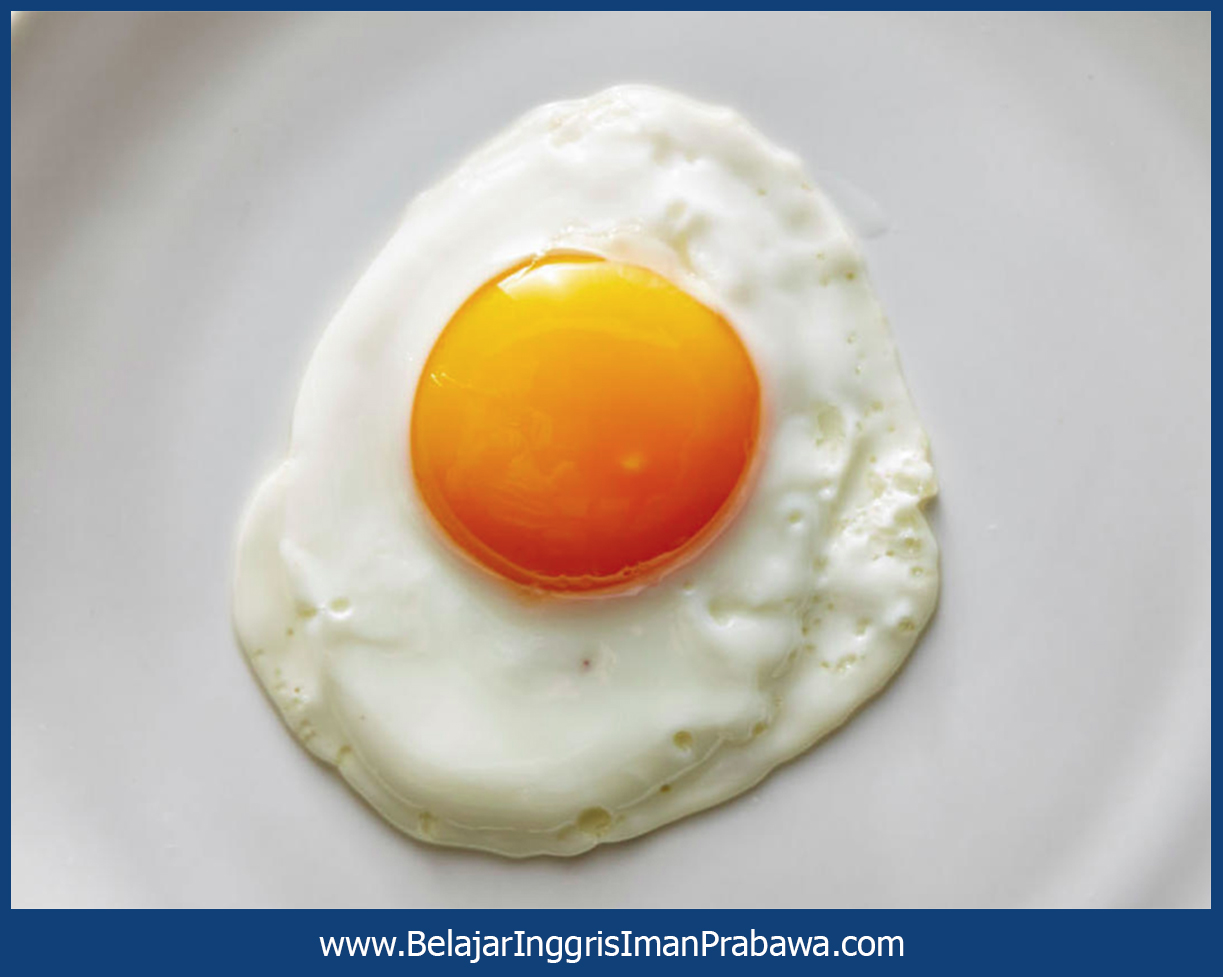Telur: (217, 124, 934, 851)
